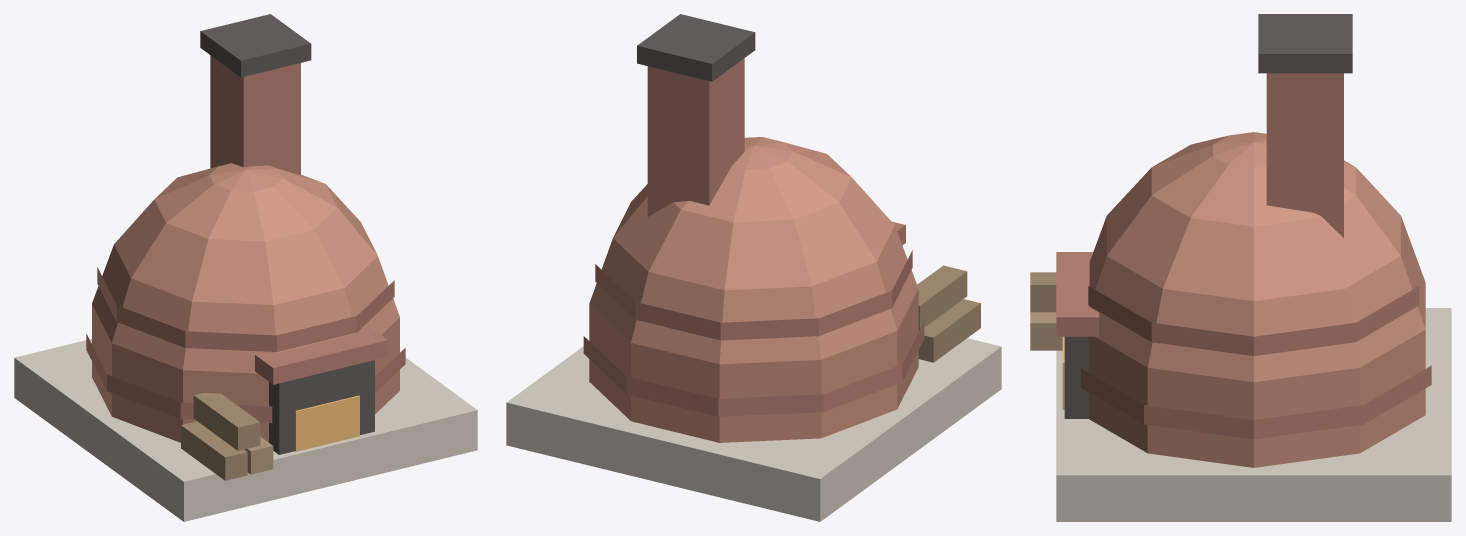
File: kiln.glb
3 renders of one model, left to right at view 1: azimuth 30°, elevation 25°; view 2: azimuth 150°, elevation 25°; view 3: azimuth 270°, elevation 25°, orthographic. The views are drawn at different scales.
Size of the model in its own units: 0.92 by 1.09 by 0.98.
